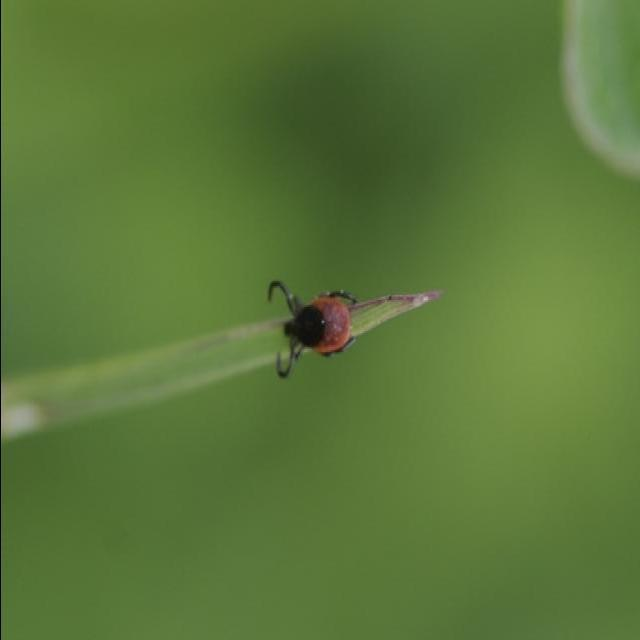Ixodes Ricinus-F: (266, 281, 357, 378)
